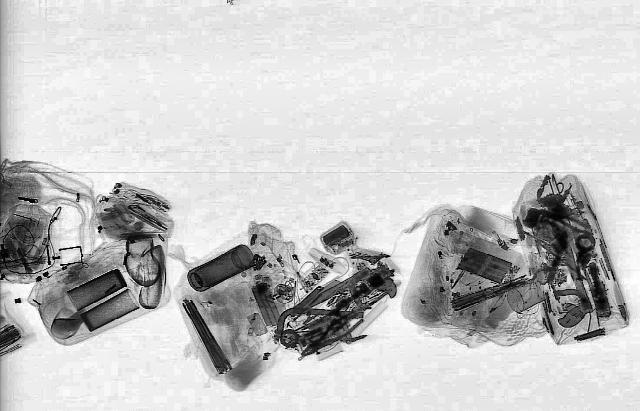Pliers: (292, 312, 366, 360), (532, 205, 600, 237)
